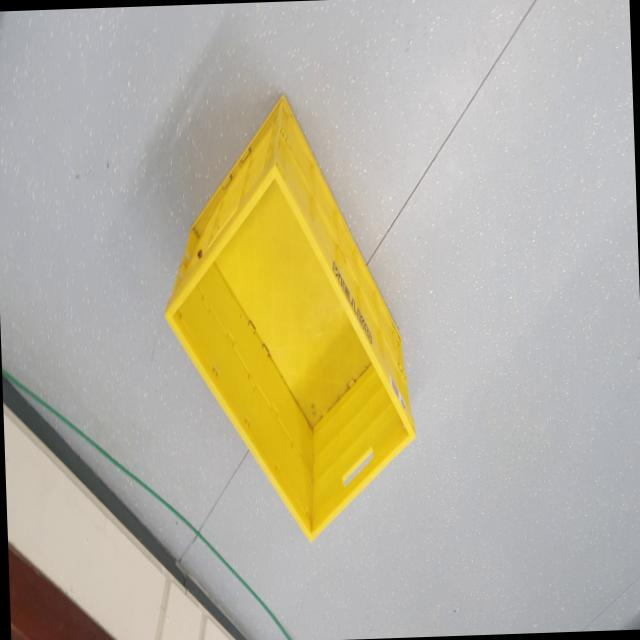box: (149, 79, 420, 567)
